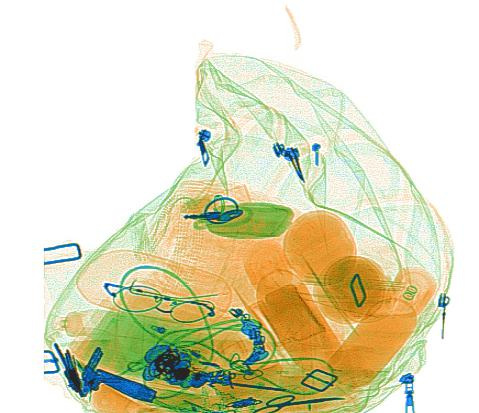plasticBottleWithaNozzle: (322, 267, 437, 391)
scissors: (252, 393, 347, 409)
